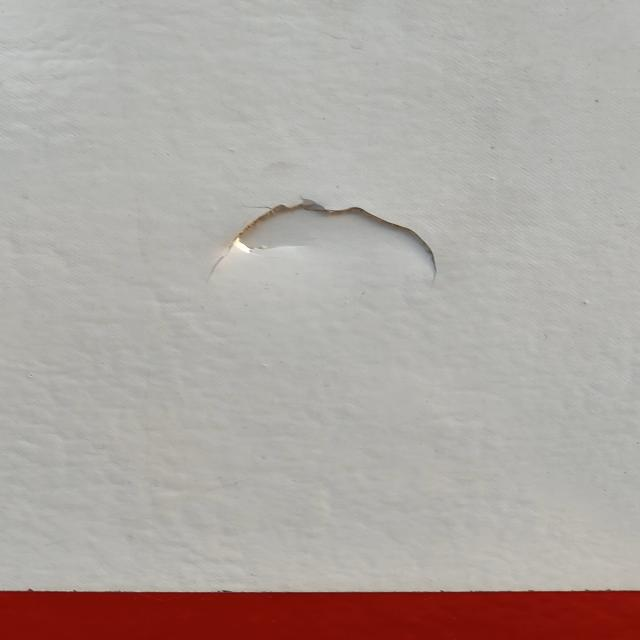Scratches: (218, 191, 449, 290)
